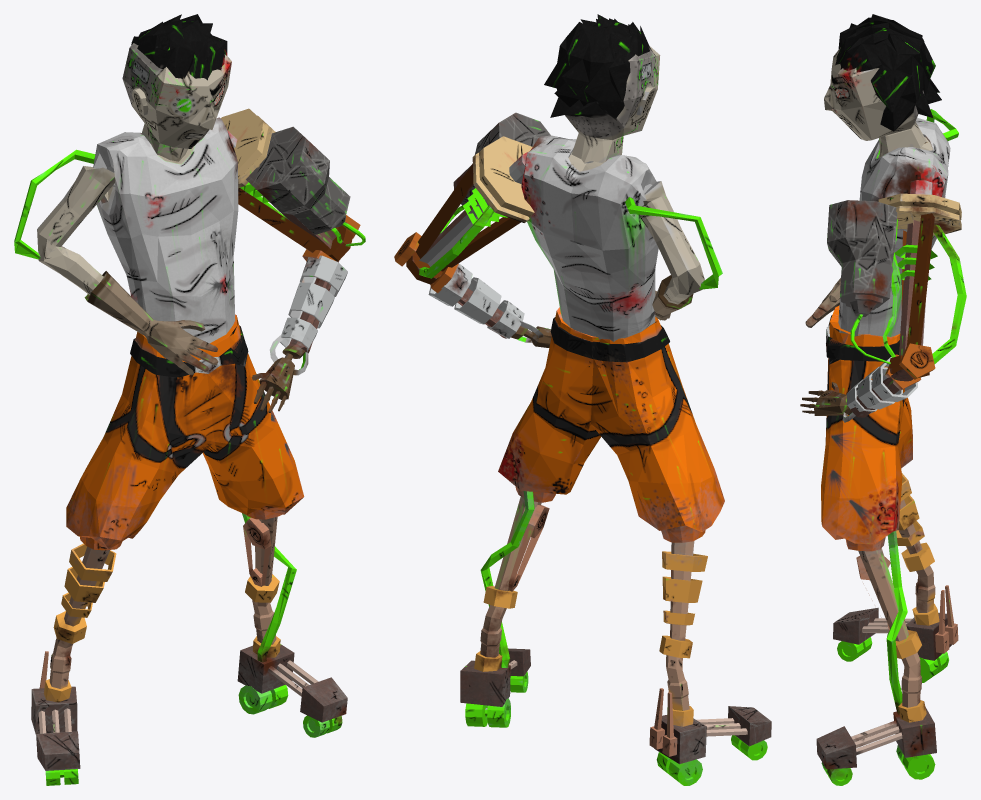
The model's file is CyborgFINALAnimation_000051.obj.
The picture shows the model from 3 angles, left to right: view 1: azimuth 30°, elevation 25°; view 2: azimuth 150°, elevation 25°; view 3: azimuth 270°, elevation 25°; orthographic projection. The views are drawn at different scales.
Visible parts, largest first — view 1: CyborgMesh_Cube.002; view 2: CyborgMesh_Cube.002; view 3: CyborgMesh_Cube.002.
Part boxes in pixels (x1,y1,x2,y2): CyborgMesh_Cube.002: [14, 14, 365, 785]; CyborgMesh_Cube.002: [394, 14, 771, 785]; CyborgMesh_Cube.002: [800, 14, 966, 785].
Bounding box in the file's own units: 4.78 × 9.57 × 2.05.
